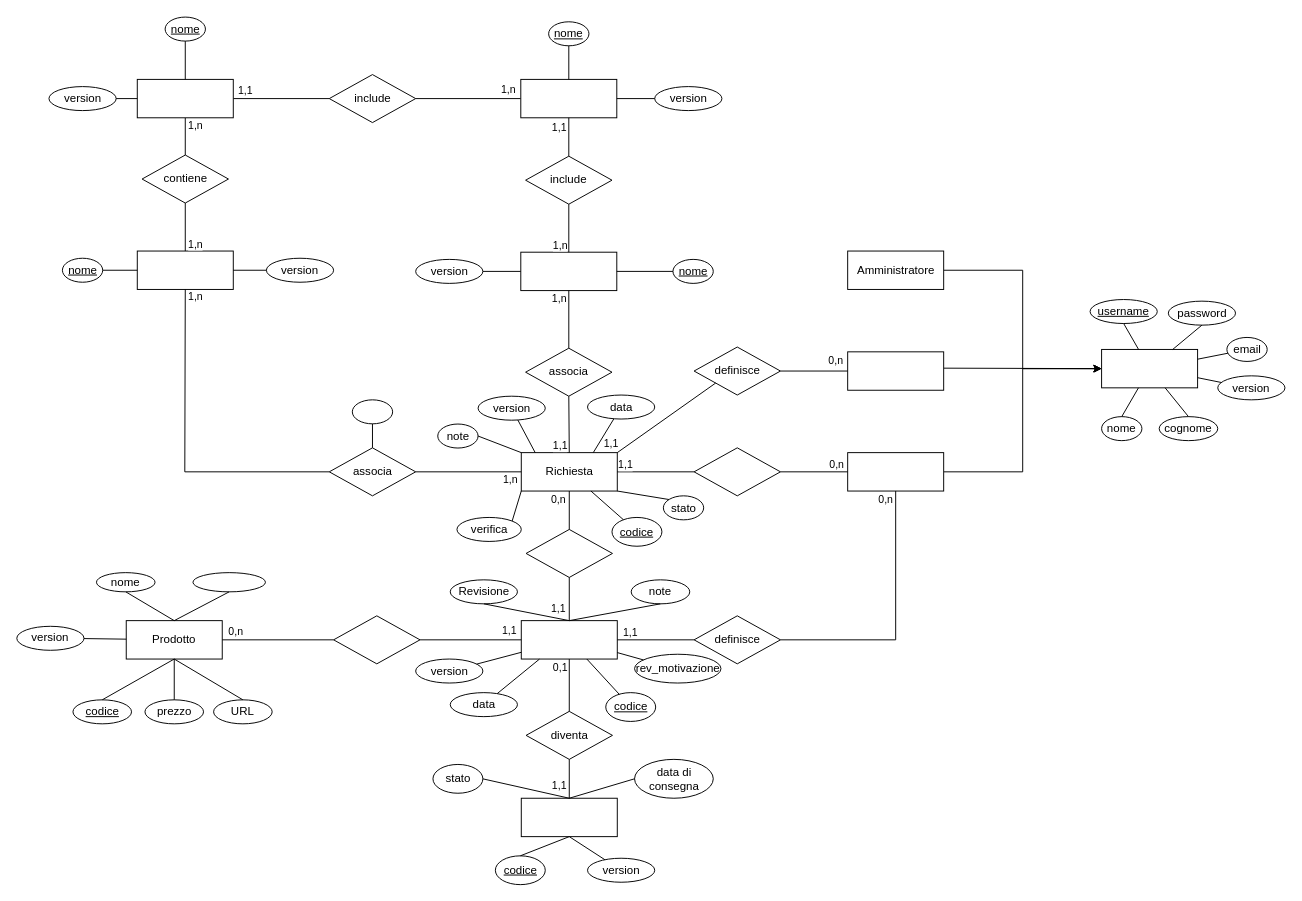
Image size: 1302x901. Some labels were removed from this diagram. The shapes that lost their labels are listed below. From the top down, each one's centre as x and y in pixels, then its label:
the point at 184,98: Micro-Categoria
the point at 568,98: Sotto-Categoria
the point at 184,269: Caratteristica
the point at 568,271: Categoria
the point at 895,370: Ordinante
the point at 1149,368: Utente
the point at 372,411: valore
the point at 736,471: assegna
the point at 895,471: Tecnico
the point at 568,552: segue
the point at 228,582: produttore
the point at 376,639: propone
the point at 568,639: Proposta
the point at 568,817: Ordine
